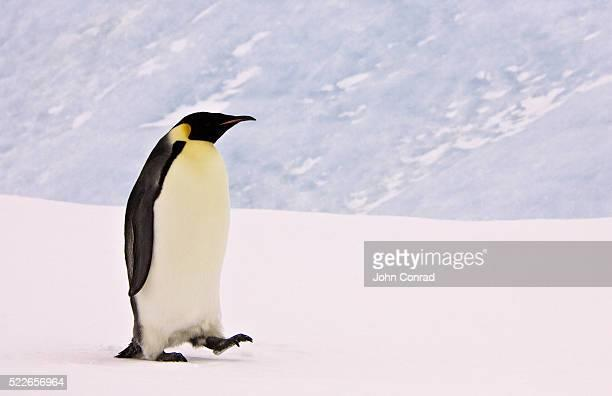emporer: (105, 103, 286, 370)
